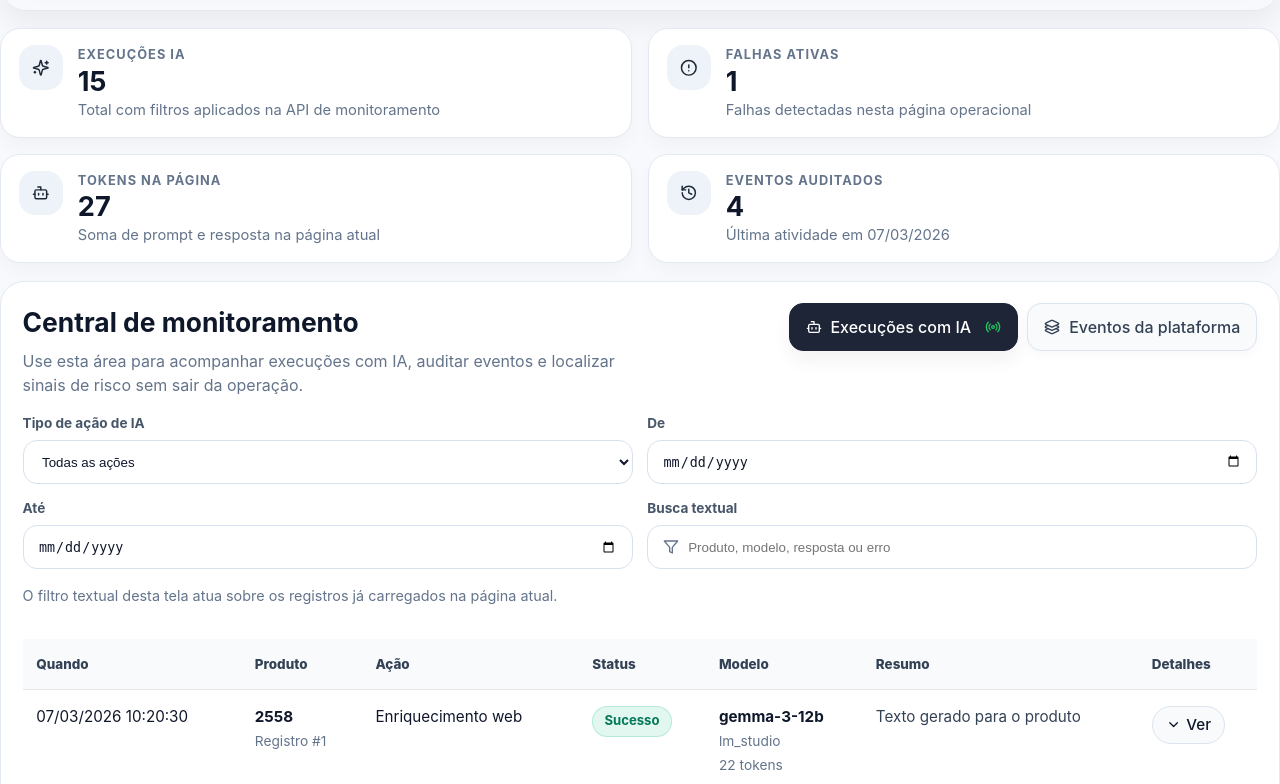
Test: HistoricoPage › aplica busca textual local nas duas abas
The width and height of the screenshot is (1280, 784).
(page scrolled)
Expected: the heading "Central de monitoramento" is shown, top-left (23, 306), bottom-right (359, 338)
Type "timeout" into the search field named "Busca textual no histórico de IA". click: (965, 547)
box: top-left (688, 540), bottom-right (1242, 555)
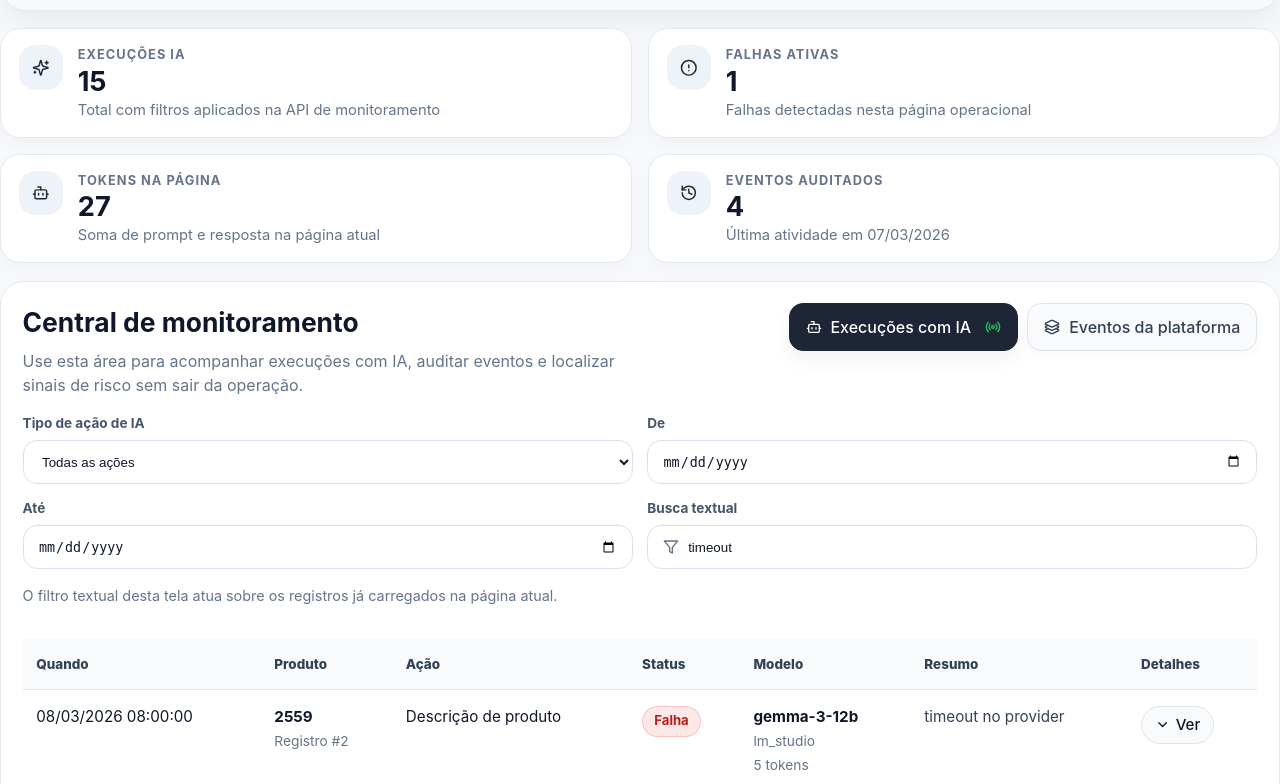
Now the text "timeout no provider" is shown, box top-left (924, 707), bottom-right (1065, 726)
Now the text "Texto gerado para o produto" is gone
Click the tab "Eventos da plataforma". click: click(1142, 327)
box: top-left (1027, 303), bottom-right (1257, 351)
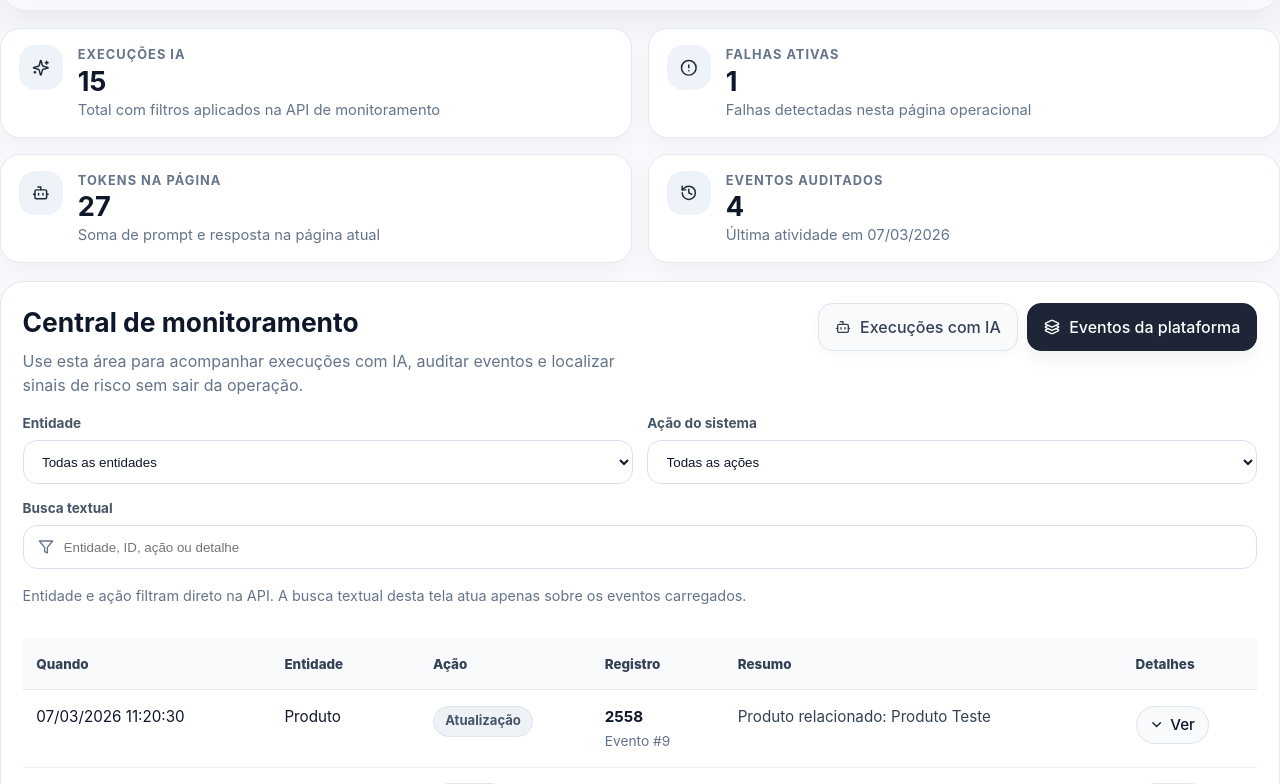
Type "Fornecedor XPTO" into the search field named "Busca textual no histórico do sistema". click: (653, 547)
box: top-left (64, 540), bottom-right (1242, 555)
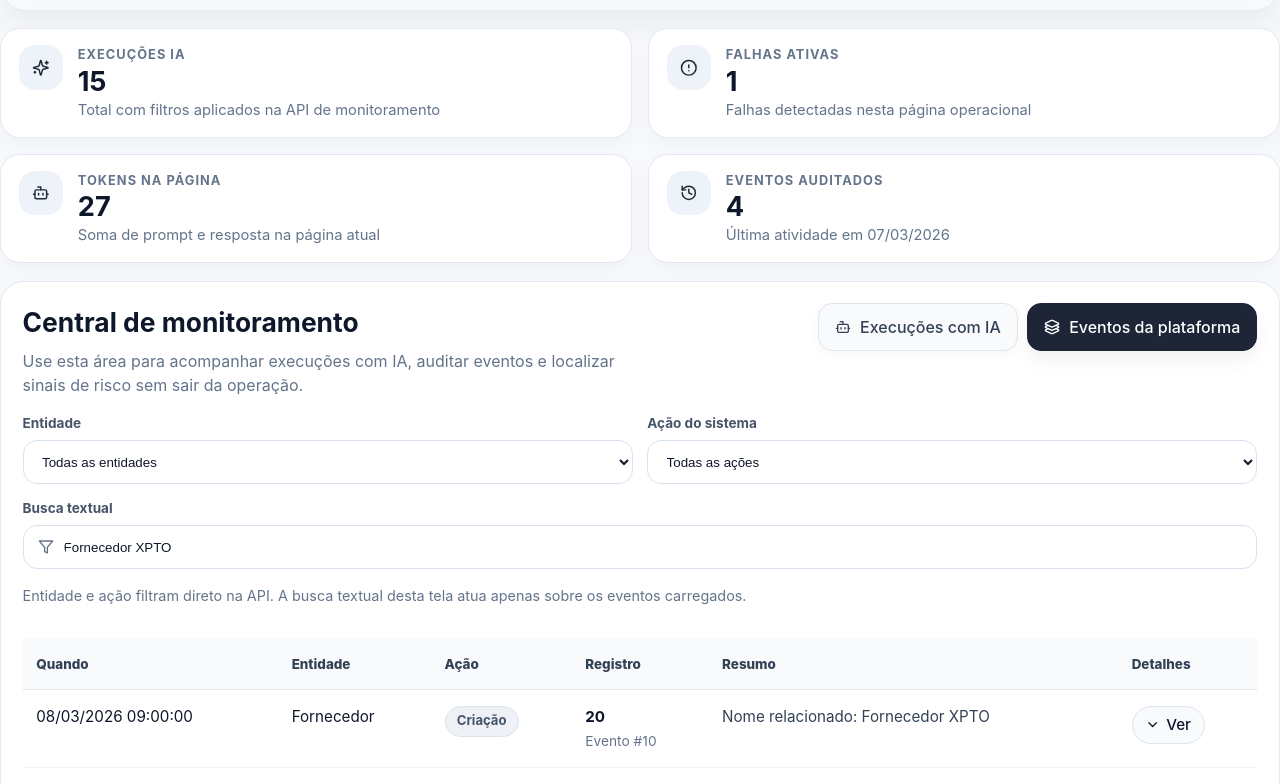
Now the text "Nome relacionado: Fornecedor XPTO" is shown, box top-left (722, 707), bottom-right (990, 726)
Now the text "Produto relacionado: Produto Teste" is gone
